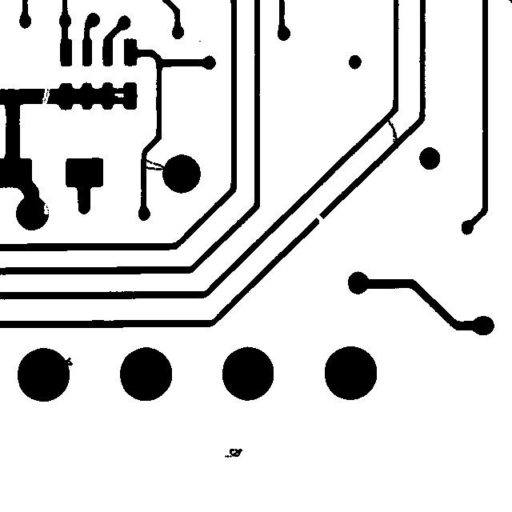copper: (217, 441, 250, 465)
mousebite: (36, 195, 58, 222)
open: (34, 77, 58, 114), (308, 206, 330, 232)
pin-hole: (106, 86, 131, 105)
short: (378, 109, 406, 156), (135, 150, 174, 178)
spur: (54, 350, 80, 373)
